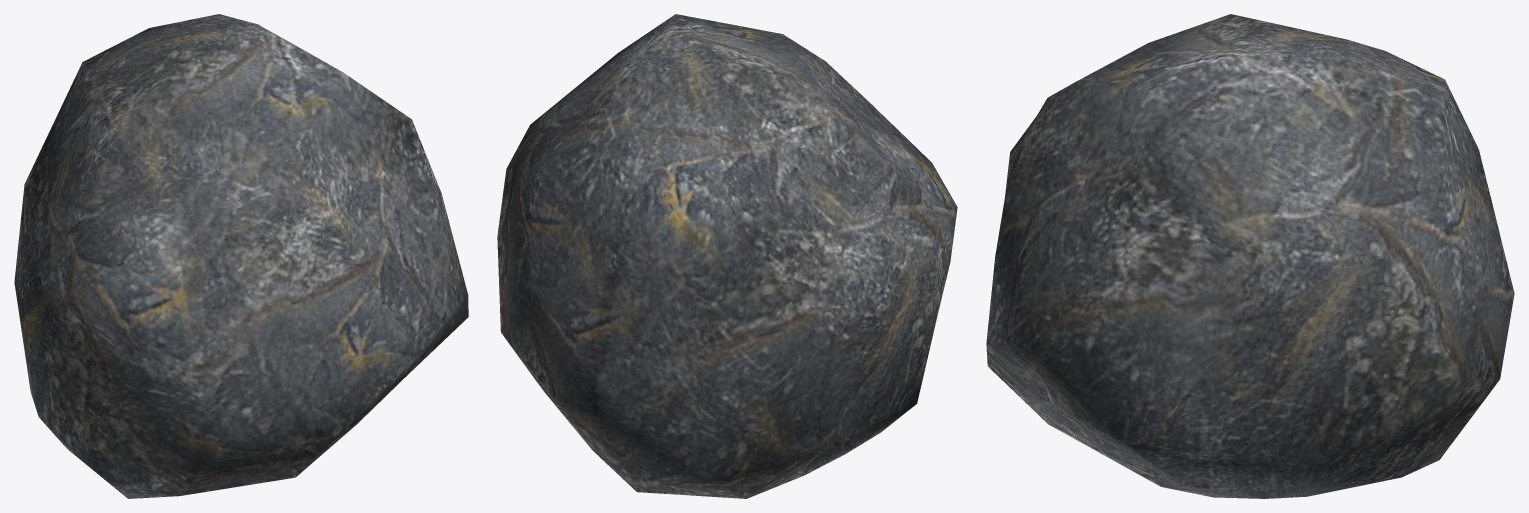
File: rock_01.dae
The picture shows the model from 3 angles, left to right: view 1: azimuth 30°, elevation 25°; view 2: azimuth 150°, elevation 25°; view 3: azimuth 270°, elevation 25°; orthographic projection. The views are drawn at different scales.
Visible parts, largest first — view 1: rock_01; view 2: rock_01; view 3: rock_01.
Boxes of the visible parts, <box> form: rock_01: <box>14,14,468,498</box>; rock_01: <box>497,14,957,498</box>; rock_01: <box>986,14,1514,498</box>.
Bounding box in the file's own units: 1.46 × 1.56 × 1.48.
Materials: 1 (1 with a texture image).
